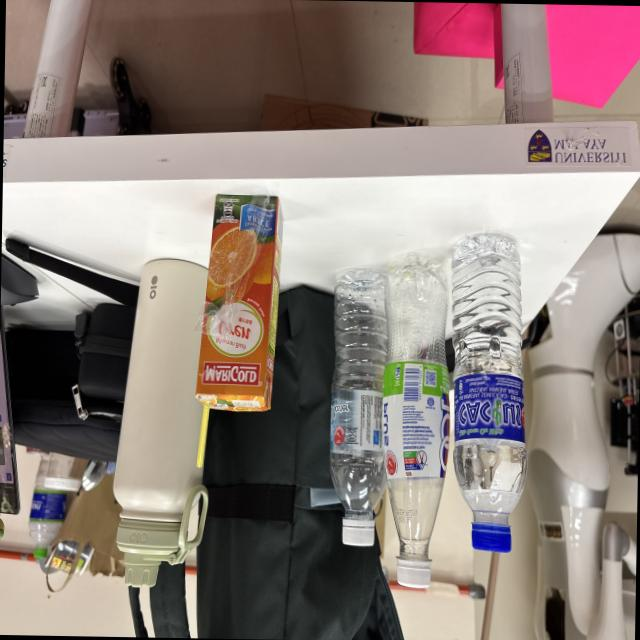drink_carton: (189, 188, 288, 480)
plastic_bottle: (372, 236, 460, 598), (440, 223, 534, 559), (317, 259, 401, 560)
